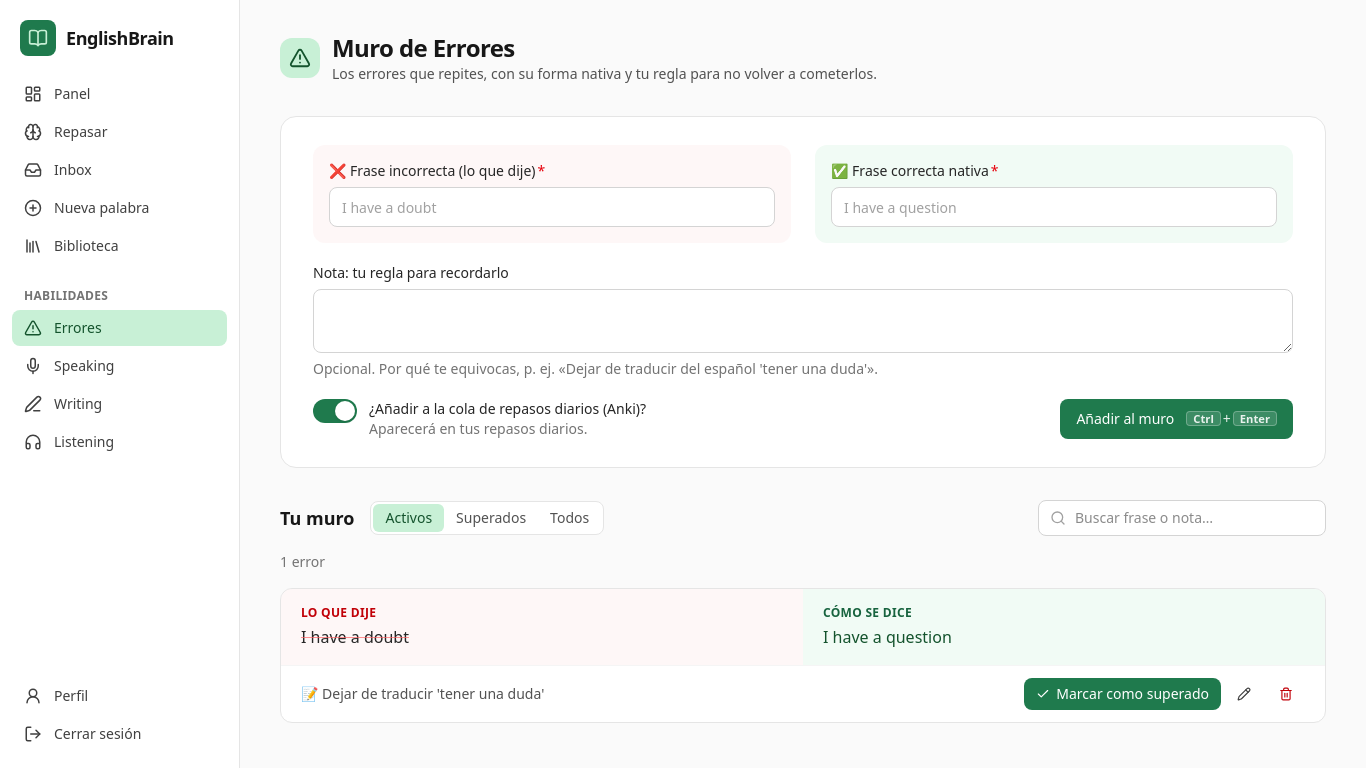
Scenario: 12.1 · Muro de Errores: registro › registra un error con sus dos frases y la nota, y lo pone arriba del muro
In the field labelled "❌ Frase incorrecta (lo que dije)*": point(552, 207) x1=329 y1=187 x2=775 y2=227, type "I am agree"
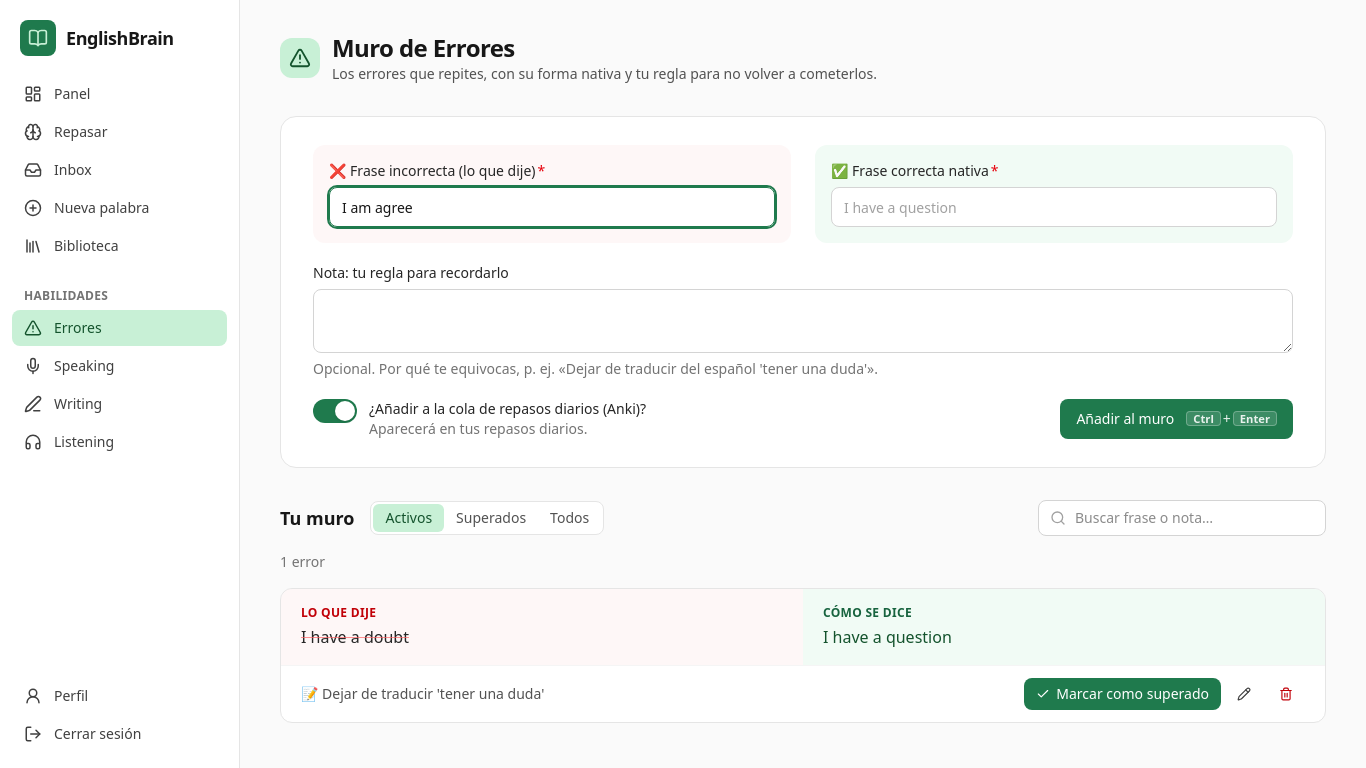
In the field labelled "✅ Frase correcta nativa*": point(1054, 207) x1=831 y1=187 x2=1277 y2=227, type "I agree"
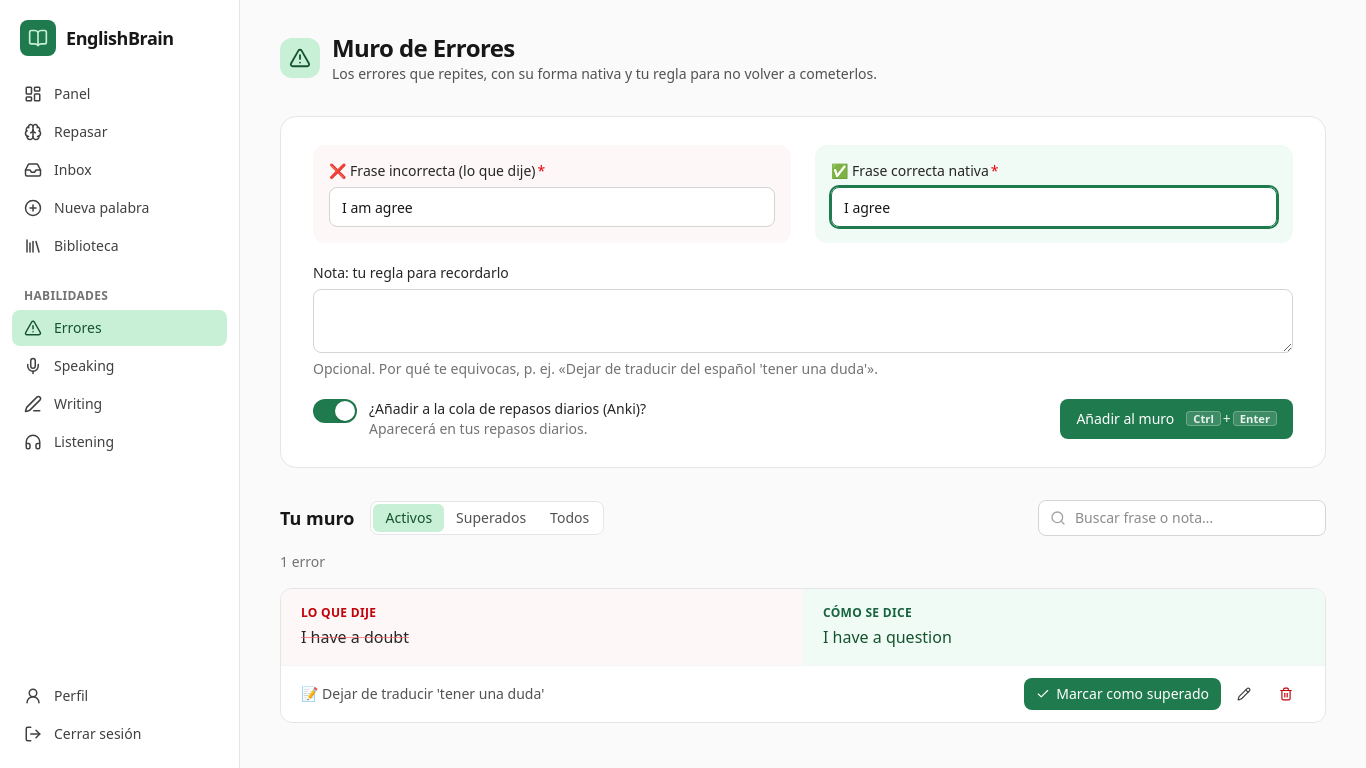
In the text box labelled "Nota: tu regla para recordarlo": point(803, 321) x1=313 y1=289 x2=1293 y2=352, type "agree ya es un verbo"
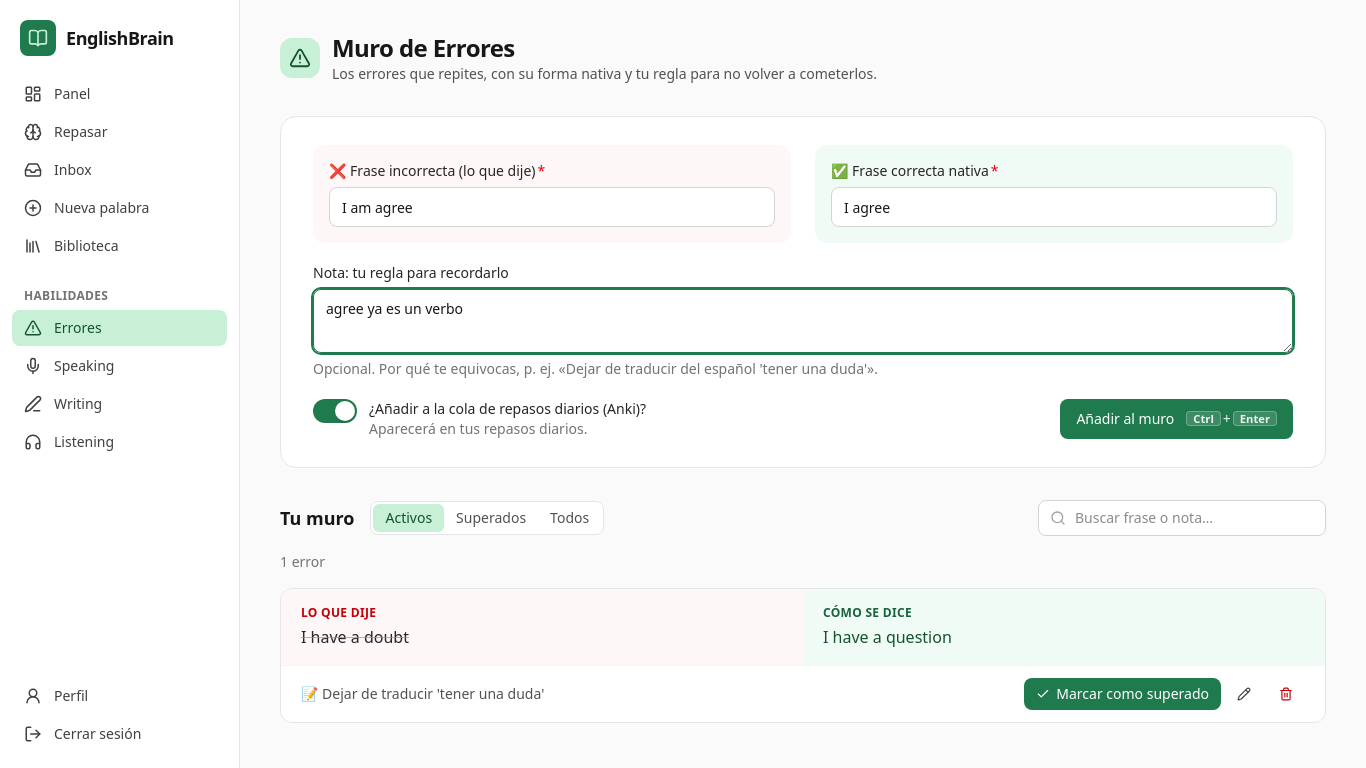
Click the button "Añadir al muro Ctrl + Enter": point(1177, 418) x1=1060 y1=398 x2=1293 y2=438
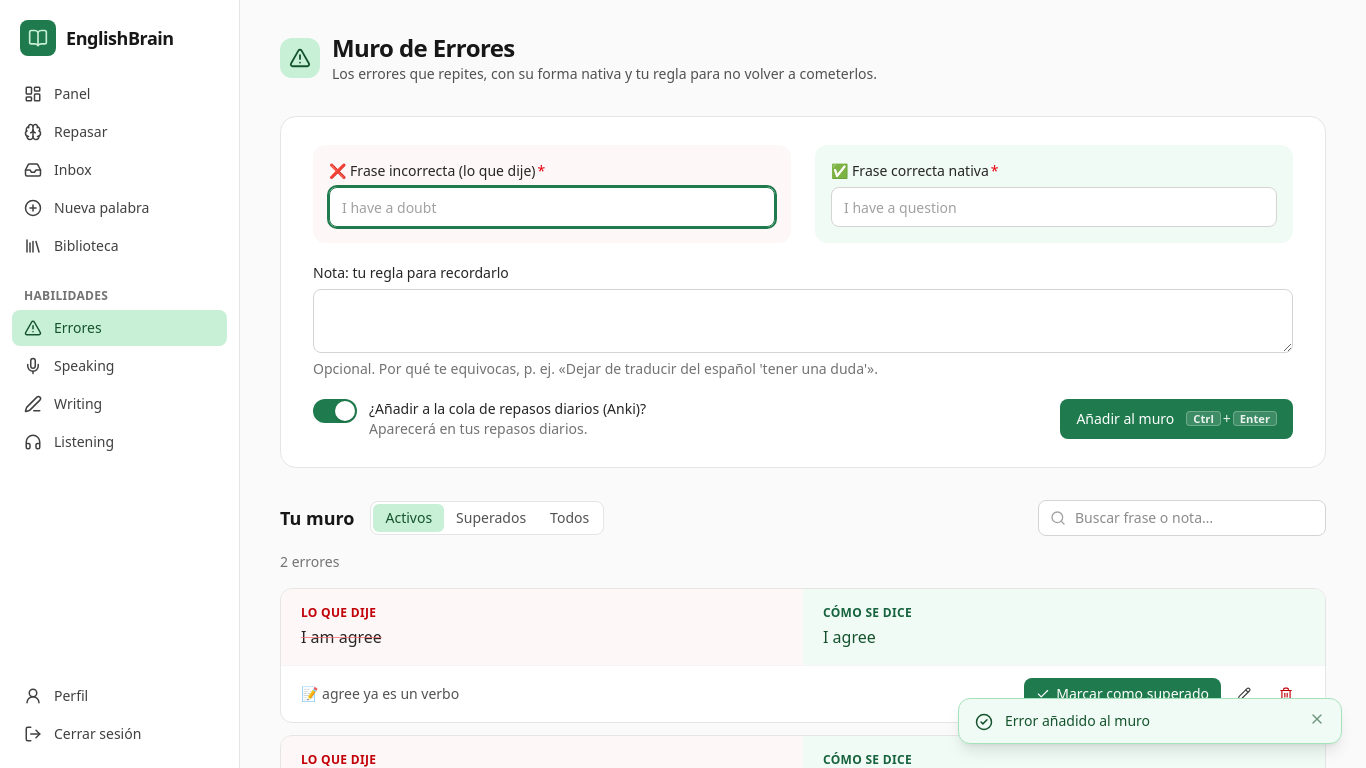
Check: the text "Error añadido al muro" is shown, box x1=1005 y1=711 x2=1150 y2=730
Check: the field labelled "❌ Frase incorrecta (lo que dije)*" is empty, box x1=329 y1=187 x2=775 y2=227
